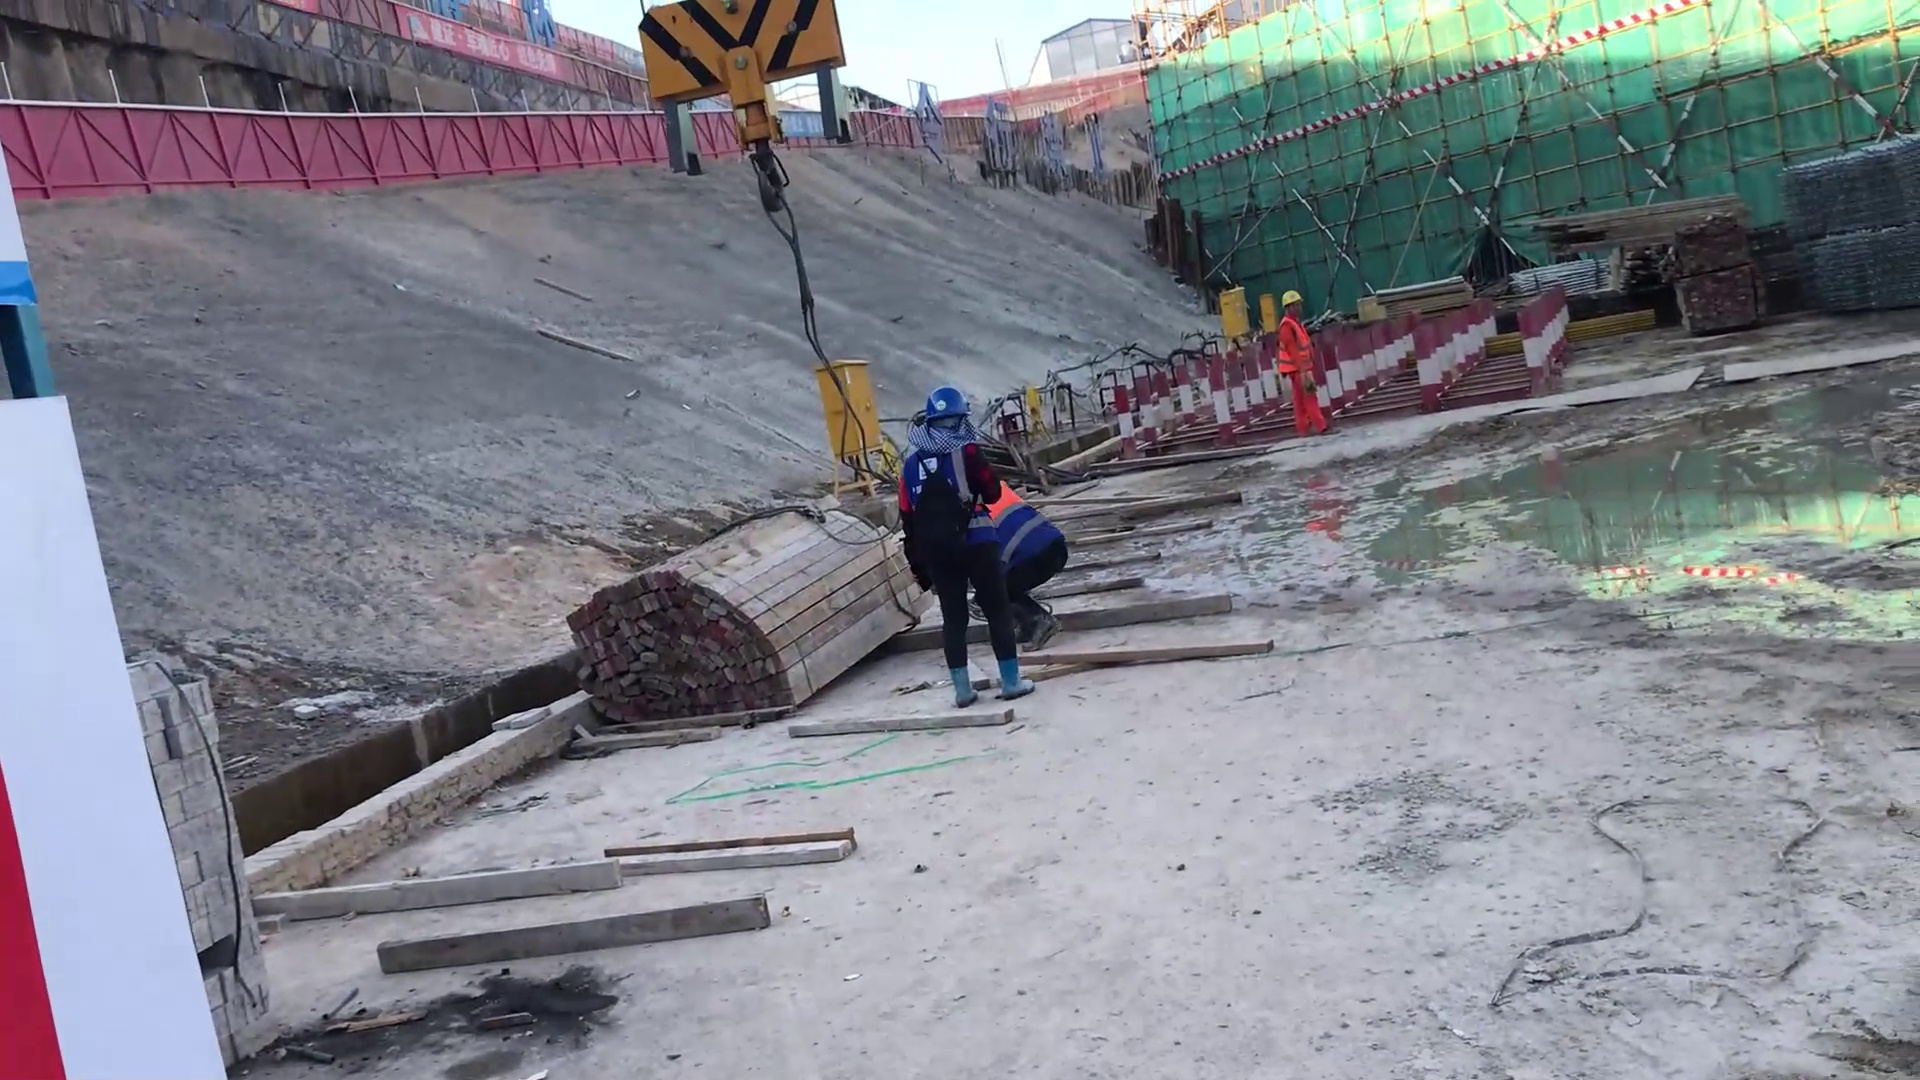brick: (122, 642, 301, 1055)
ebox: (806, 338, 892, 483), (1210, 280, 1255, 334)
fence: (25, 93, 633, 187)
helmet: (911, 381, 985, 454), (1273, 287, 1300, 319)
hook: (617, 1, 873, 169)
person: (899, 385, 1034, 696), (1272, 291, 1329, 436)
scaffold: (1775, 148, 1920, 319)
vest: (1276, 319, 1322, 398)
wood: (521, 520, 897, 739), (1537, 201, 1745, 267)
